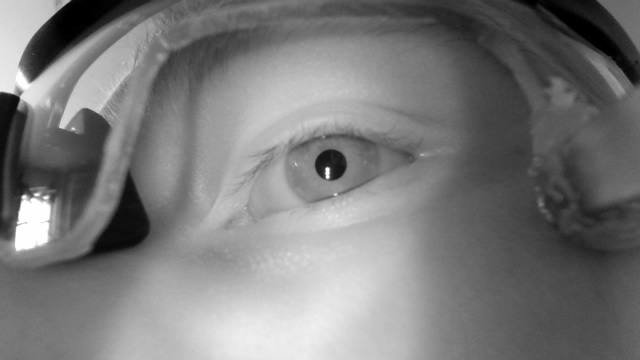pupil: (314, 149, 348, 182)
